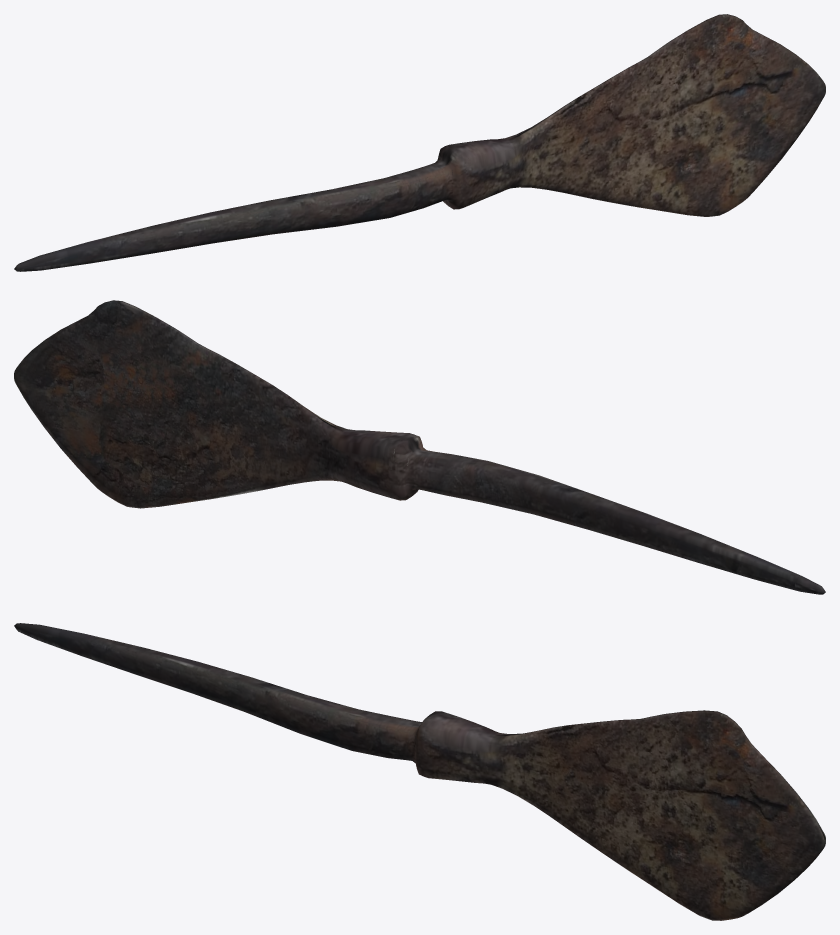
Rendered from arhead1.glb.
The picture shows the model from 3 angles, top to bottom: view 1: azimuth 30°, elevation 25°; view 2: azimuth 150°, elevation 25°; view 3: azimuth 330°, elevation 25°; orthographic projection. The views are drawn at different scales.
Visible parts, largest first — view 1: Cube; view 2: Cube; view 3: Cube.
Part boxes in pixels (x1,y1,x2,y2): Cube: [14, 14, 825, 271]; Cube: [14, 300, 825, 594]; Cube: [14, 623, 825, 920].
Bounding box in the file's own units: 8.88 × 2.12 × 0.6066.
Materials: 1 (1 with a texture image).
